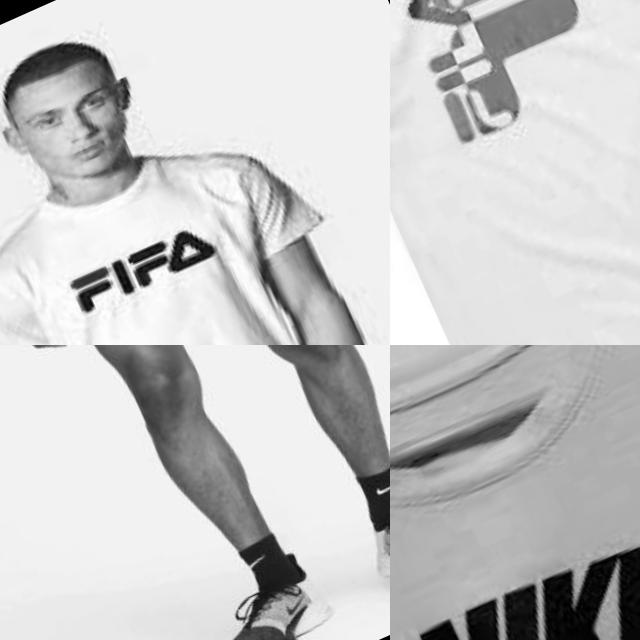FILA_fake: (390, 0, 640, 152), (43, 196, 235, 336)
NIKE_original: (390, 398, 640, 640)
